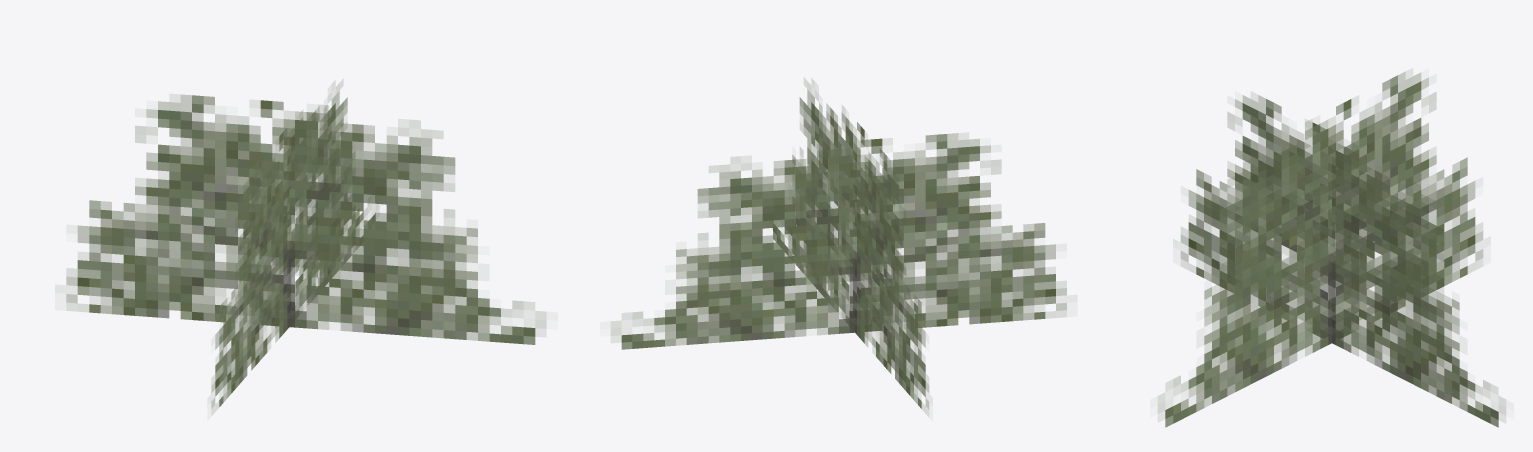
File: tree-shrub.010_lev3.glb
3 views of the same model, side by side, from view 1: azimuth 30°, elevation 25°; view 2: azimuth 150°, elevation 25°; view 3: azimuth 270°, elevation 25° (orthographic). The views are drawn at different scales.
Visible parts, largest first — view 1: tree-shrub.010_lev3; view 2: tree-shrub.010_lev3; view 3: tree-shrub.010_lev3.
Boxes of the visible parts, x1,y1,x2,y2 form: tree-shrub.010_lev3: (66, 80, 546, 414); tree-shrub.010_lev3: (611, 78, 1066, 416); tree-shrub.010_lev3: (1158, 68, 1505, 427).
Bounding box in the file's own units: 4.18 × 2.41 × 3.48.
Materials: 1 (1 with a texture image).
